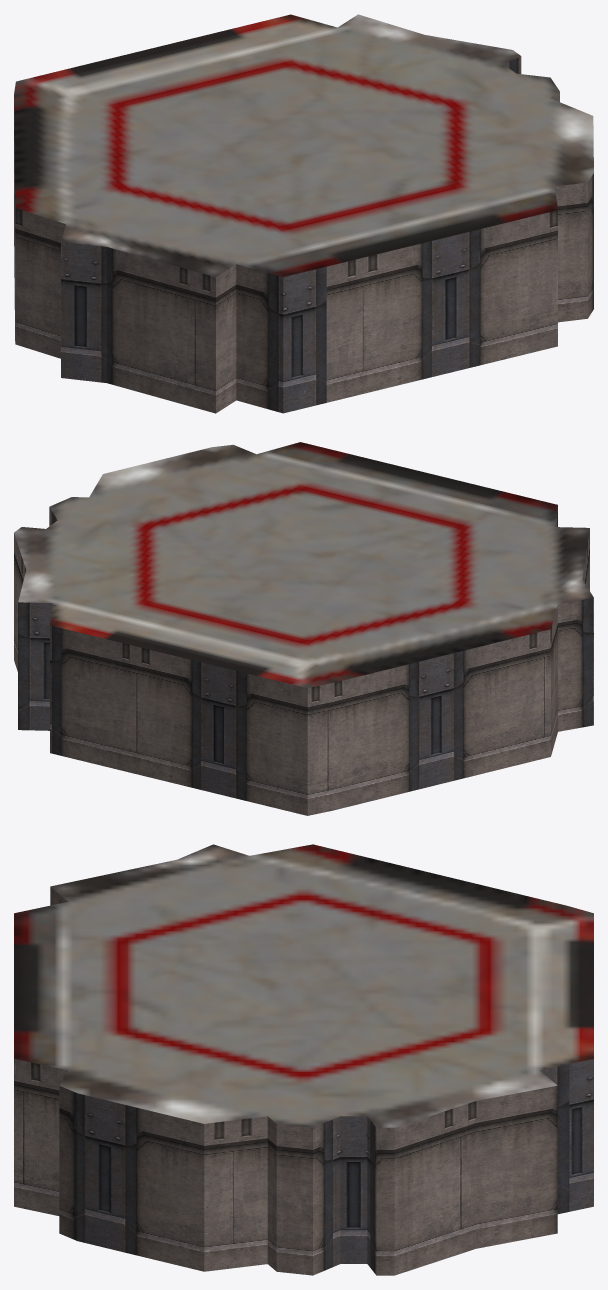
Rendered from bsealed_light_22.glb.
The picture shows the model from 3 angles, top to bottom: view 1: azimuth 30°, elevation 25°; view 2: azimuth 150°, elevation 25°; view 3: azimuth 270°, elevation 25°; orthographic projection. The views are drawn at different scales.
Visible parts, largest first — view 1: buildings/saxarba/bsealed_light/bsealed_light_22; view 2: buildings/saxarba/bsealed_light/bsealed_light_22; view 3: buildings/saxarba/bsealed_light/bsealed_light_22.
Part boxes in pixels (box(x1,y1,x2,y2)): buildings/saxarba/bsealed_light/bsealed_light_22: box(14, 14, 593, 413); buildings/saxarba/bsealed_light/bsealed_light_22: box(14, 442, 593, 815); buildings/saxarba/bsealed_light/bsealed_light_22: box(14, 844, 593, 1275).
Size of the model in its own units: 74 by 18 by 64.
